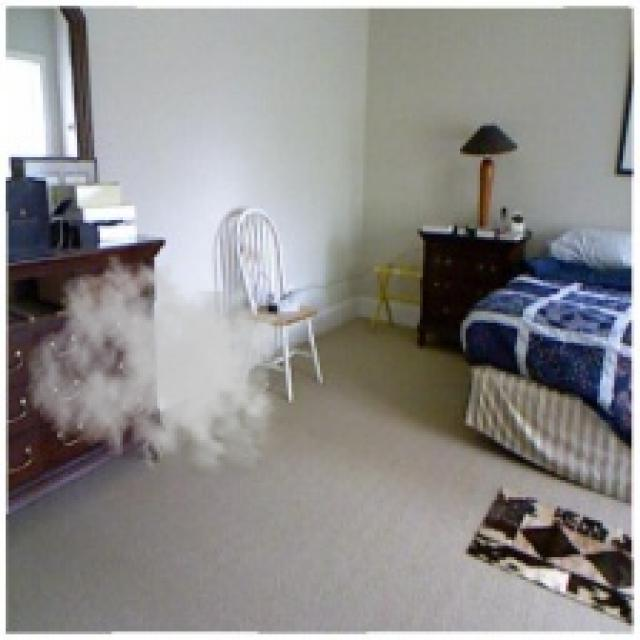smoke: (26, 254, 291, 486)
